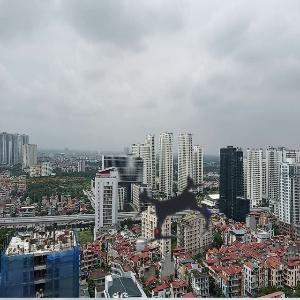drone: (103, 143, 248, 288)
